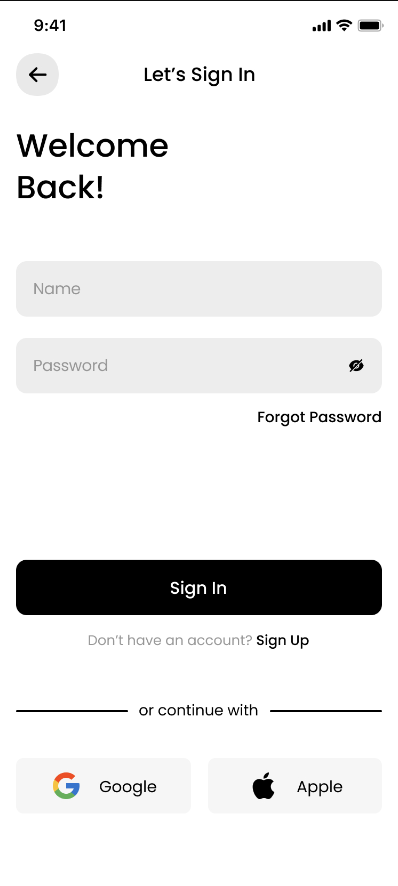IconButton: (14, 51, 61, 98)
